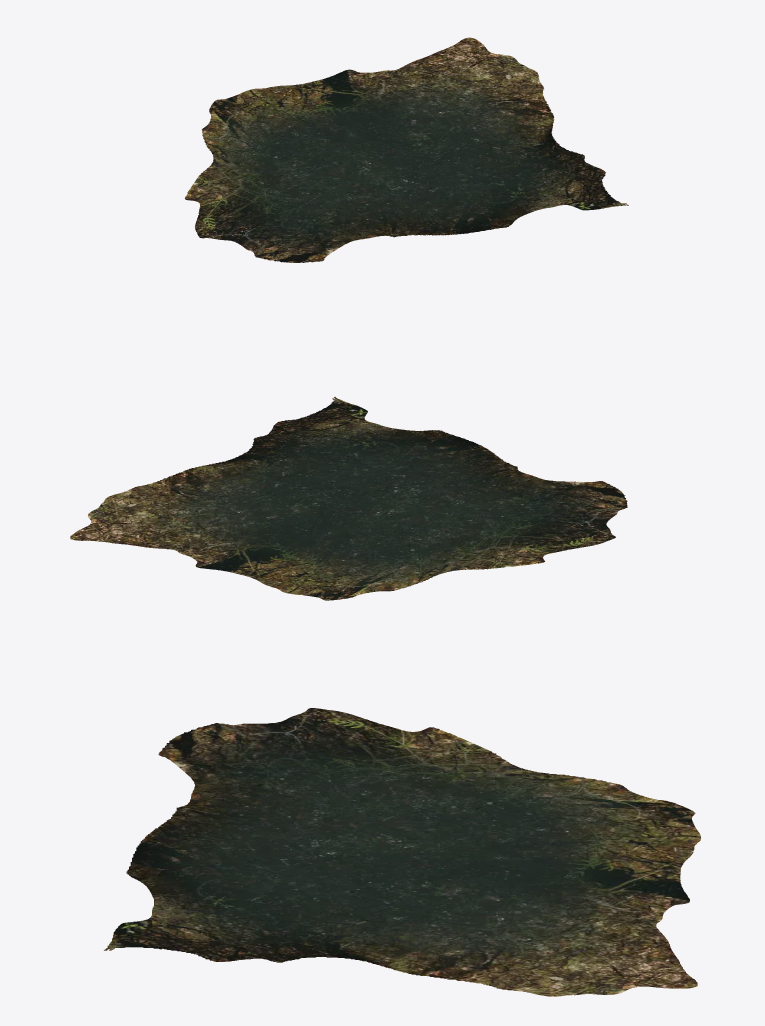
Rendered from KM_VOB_DECAL_PUDDLE_01.glb.
3 renders of one model, top to bottom at view 1: azimuth 30°, elevation 25°; view 2: azimuth 150°, elevation 25°; view 3: azimuth 270°, elevation 25°, orthographic. The views are drawn at different scales.
Parts seen in each view (by area): view 1: Mesh; view 2: Mesh; view 3: Mesh.
Part boxes in pixels (x1=…): Mesh: x1=185, y1=37, x2=628, y2=262; Mesh: x1=70, y1=397, x2=627, y2=600; Mesh: x1=104, y1=708, x2=700, y2=996.
Bounding box in the file's own units: 1.23 × 0 × 1.18.
Materials: 1 (1 with a texture image).
